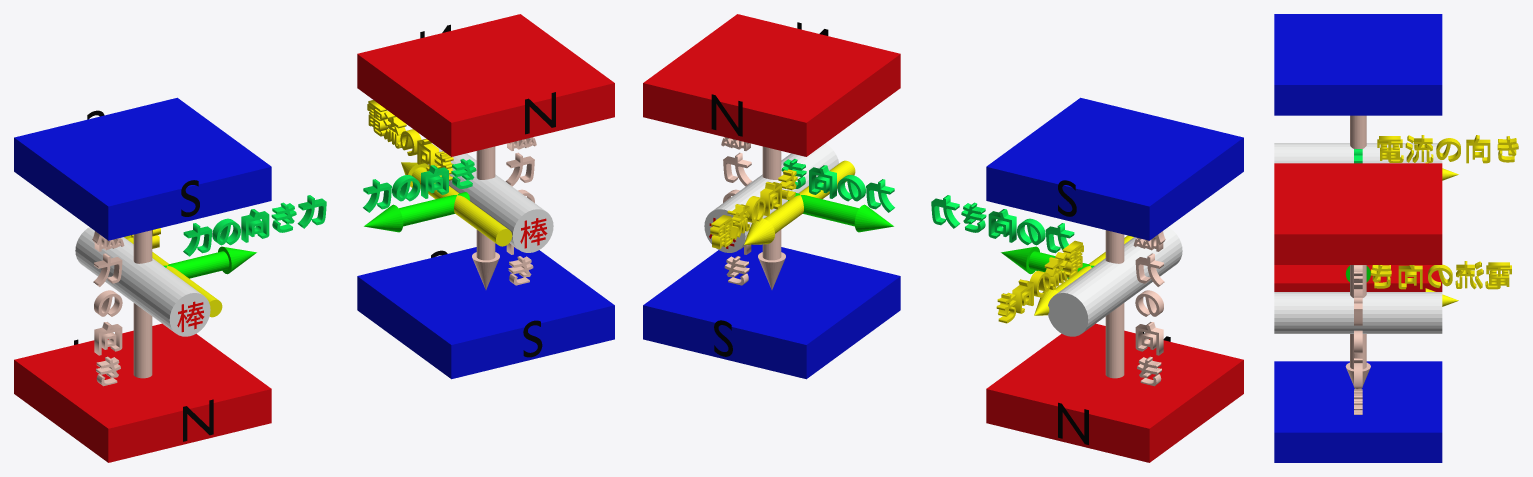
The model's file is Fleming's_left-hand_rule1.glb.
3 renders of one model, left to right at view 1: azimuth 30°, elevation 25°; view 2: azimuth 150°, elevation 25°; view 3: azimuth 270°, elevation 25°, orthographic. The views are drawn at different scales.
Visible parts, largest first — view 1: Cube.001, Cube.003, Cube.002, Cube, 円柱, 円柱.001, 力の向き, 磁力の向き, 力の向き.001, 電流の向き.001, 磁力, 磁力の向き.001 (+6 smaller); view 2: Cube.001, Cube.003, Cube.002, Cube, 円柱, 力の向き, 磁力の向き, 電流の向き, 電流の向き.001, 円柱.001, 力の向き.001, 磁力 (+6 smaller); view 3: Cube.001, Cube.003, Cube.002, 円柱.001, Cube, 円柱, 電流の向き, 電流の向き.001, 磁力の向き.001, 磁力.001, 磁力.
Part boxes in pixels (bbox=[...]): Cube.001: bbox=[14, 97, 271, 240]; Cube.003: bbox=[357, 14, 614, 156]; Cube.002: bbox=[357, 243, 614, 379]; Cube: bbox=[14, 323, 271, 462]; 円柱: bbox=[75, 227, 210, 336]; 円柱.001: bbox=[428, 143, 553, 252]; 力の向き: bbox=[183, 195, 326, 256]; 磁力の向き: bbox=[92, 231, 124, 386]; 力の向き.001: bbox=[363, 159, 476, 212]; 電流の向き.001: bbox=[367, 100, 453, 180]; 磁力: bbox=[133, 230, 152, 378]; 磁力の向き.001: bbox=[505, 137, 536, 285]; Cube.001: bbox=[986, 97, 1243, 240]; Cube.003: bbox=[643, 14, 900, 156]; Cube.002: bbox=[643, 244, 900, 379]; Cube: bbox=[986, 323, 1243, 462]; 円柱: bbox=[1048, 227, 1182, 336]; 力の向き: bbox=[931, 195, 1074, 253]; 磁力の向き: bbox=[1133, 231, 1165, 386]; 電流の向き: bbox=[996, 240, 1083, 323]; 電流の向き.001: bbox=[710, 169, 797, 248]; 円柱.001: bbox=[704, 143, 839, 252]; 力の向き.001: bbox=[781, 159, 894, 212]; 磁力: bbox=[1105, 230, 1124, 378]; Cube.001: bbox=[1274, 14, 1442, 115]; Cube.003: bbox=[1274, 163, 1442, 264]; Cube.002: bbox=[1274, 361, 1442, 462]; 円柱.001: bbox=[1274, 292, 1442, 333]; Cube: bbox=[1274, 265, 1442, 291]; 円柱: bbox=[1274, 143, 1442, 163]; 電流の向き: bbox=[1377, 135, 1518, 163]; 電流の向き.001: bbox=[1370, 261, 1511, 289]; 磁力の向き.001: bbox=[1354, 265, 1362, 414]; 磁力.001: bbox=[1350, 265, 1366, 369]; 磁力: bbox=[1350, 115, 1366, 148].
Bounding box in the file's own units: 6.2 × 3.07 × 2.93.
